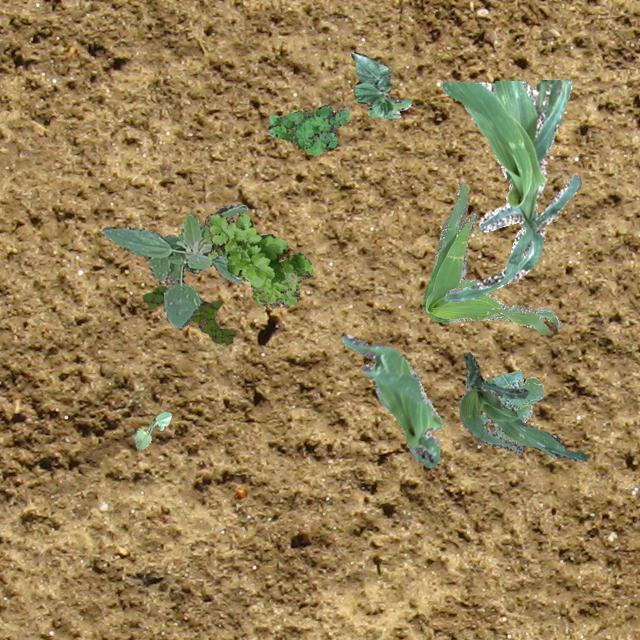crop: (442, 78, 580, 302), (458, 352, 586, 461), (341, 334, 442, 466), (479, 368, 543, 441), (350, 50, 410, 118), (134, 411, 170, 448)
weed: (422, 180, 560, 334), (100, 202, 248, 328), (204, 212, 312, 306), (143, 284, 235, 342), (266, 104, 348, 154)
